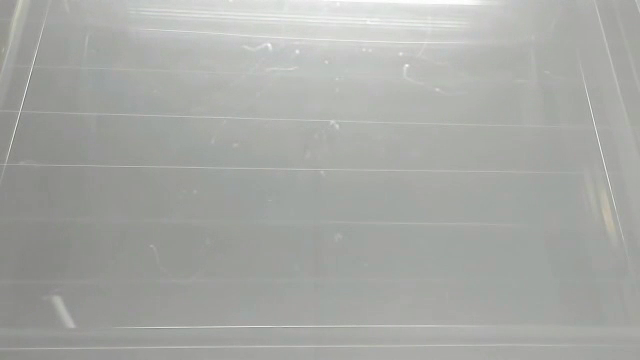alpha: (48, 291, 81, 336)
